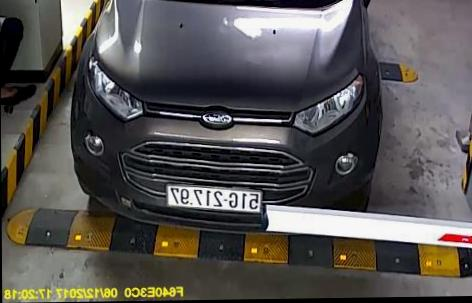License_Plate: (164, 185, 265, 213)
